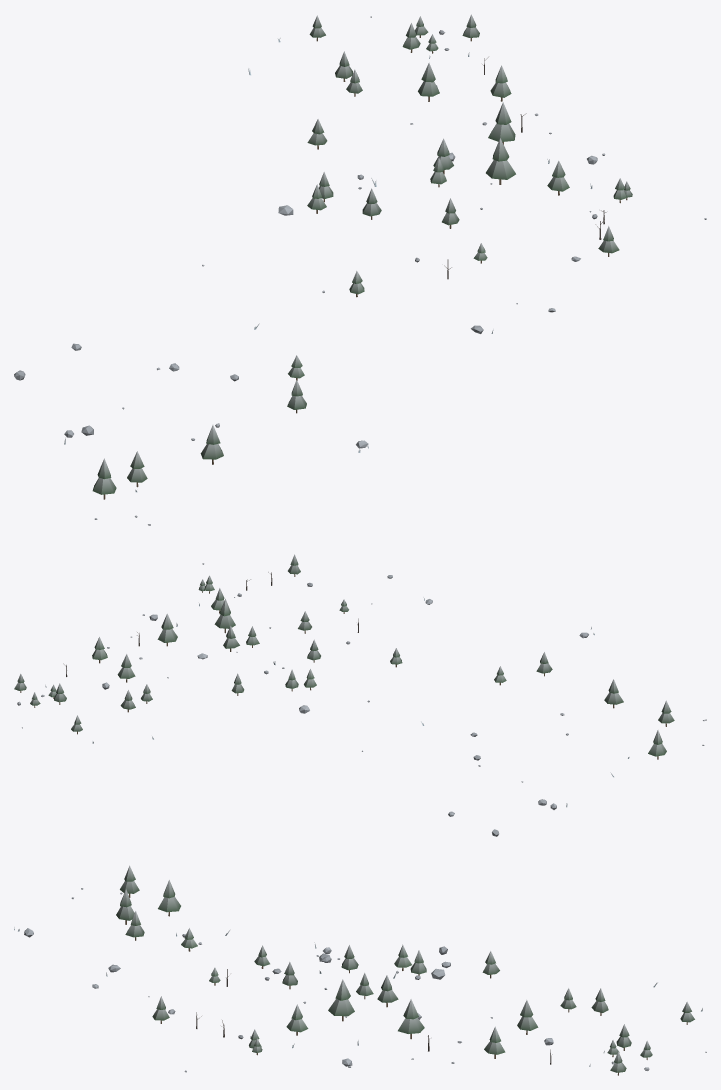
Rendered from frost_land_scatter_c12_11_lod1.glb.
3 renders of one model, top to bottom at view 1: azimuth 30°, elevation 25°; view 2: azimuth 150°, elevation 25°; view 3: azimuth 270°, elevation 25°, orthographic. The views are drawn at different scales.
Parts seen in each view (by area): view 1: frost_land_scatter_c12_11_lod1; view 2: frost_land_scatter_c12_11_lod1; view 3: frost_land_scatter_c12_11_lod1.
Boxes of the visible parts, x1,y1,x2,y2 form: frost_land_scatter_c12_11_lod1: [14, 14, 706, 525]; frost_land_scatter_c12_11_lod1: [14, 554, 706, 836]; frost_land_scatter_c12_11_lod1: [14, 865, 706, 1075].
Bounding box in the file's own units: 242 × 65.1 × 245.
